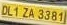character: (21, 6, 29, 17), (50, 11, 58, 21), (6, 5, 13, 16), (1, 4, 7, 15), (37, 8, 43, 19), (44, 9, 50, 20), (13, 5, 18, 17), (28, 7, 34, 17), (58, 11, 63, 22)
